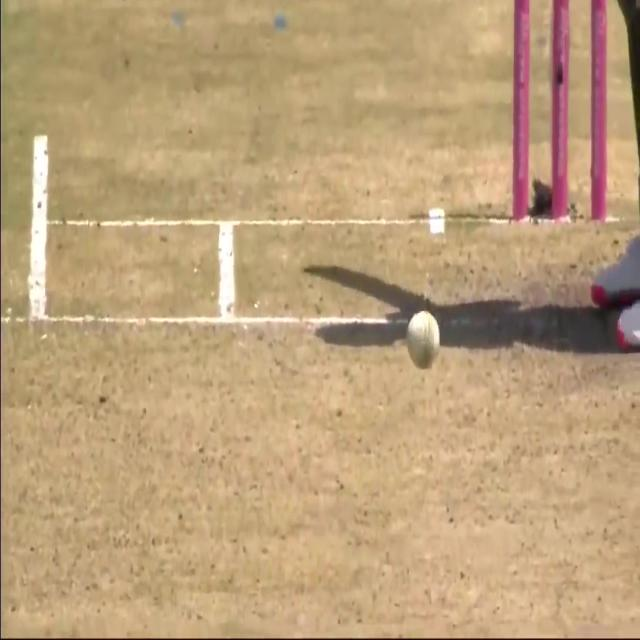Batsman: (398, 296, 444, 378)
